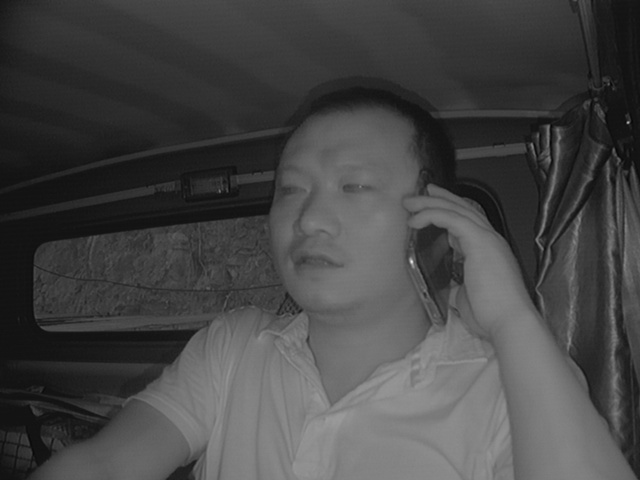hand: (406, 191, 510, 326)
